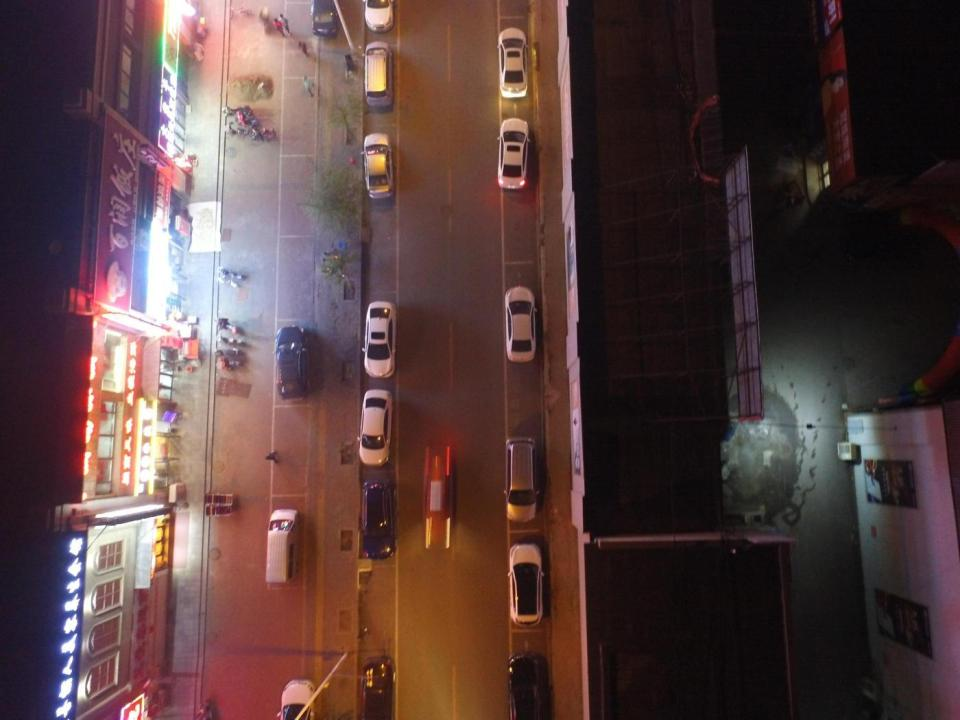car: (507, 542, 544, 625), (422, 445, 450, 549), (357, 389, 392, 467), (361, 479, 394, 560), (362, 300, 396, 378), (273, 325, 308, 400), (505, 285, 537, 362), (497, 118, 530, 190), (360, 656, 395, 720), (497, 27, 528, 97), (361, 133, 394, 198), (508, 653, 539, 719), (276, 680, 316, 720), (362, 0, 394, 32), (310, 0, 336, 36)
van: (504, 437, 540, 522), (266, 509, 300, 583), (362, 40, 393, 106)
